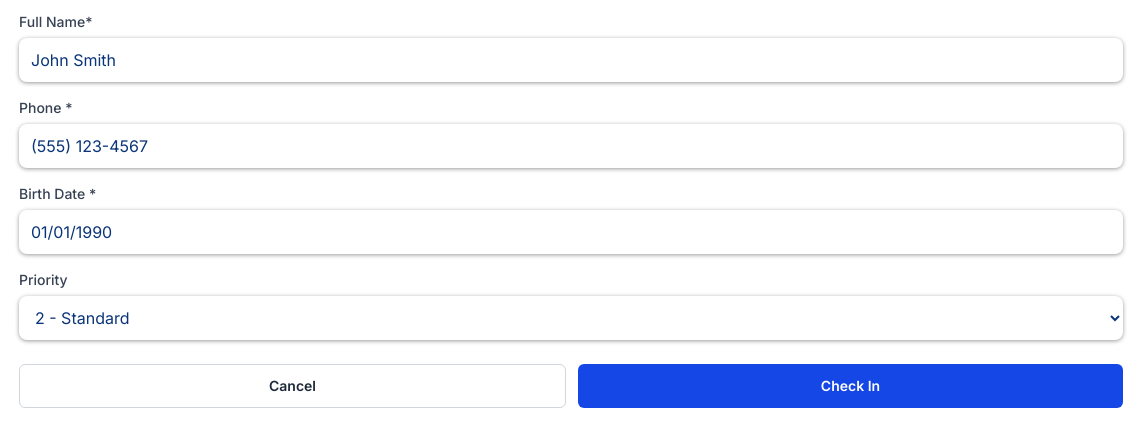
Test: NewPatientCheckInForm › disables form during submission
Click the button "Check In" at x=850, y=386, box x1=578 y1=364 x2=1123 y2=408
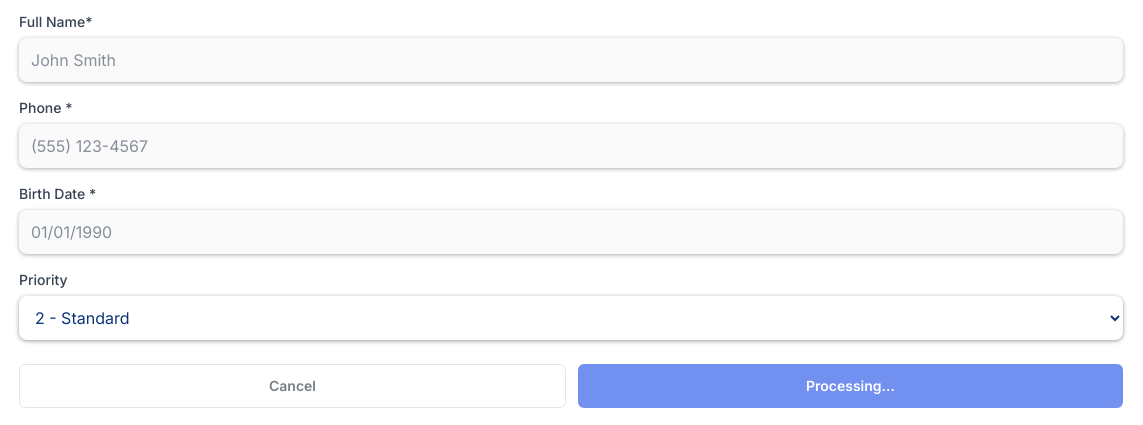
Expected: the button "Processing..." is shown, x1=578 y1=364 x2=1123 y2=408
Expected: the field showing "John Smith" is disabled, x1=19 y1=38 x2=1123 y2=82
Expected: the button "Cancel" is disabled, x1=19 y1=364 x2=566 y2=408
